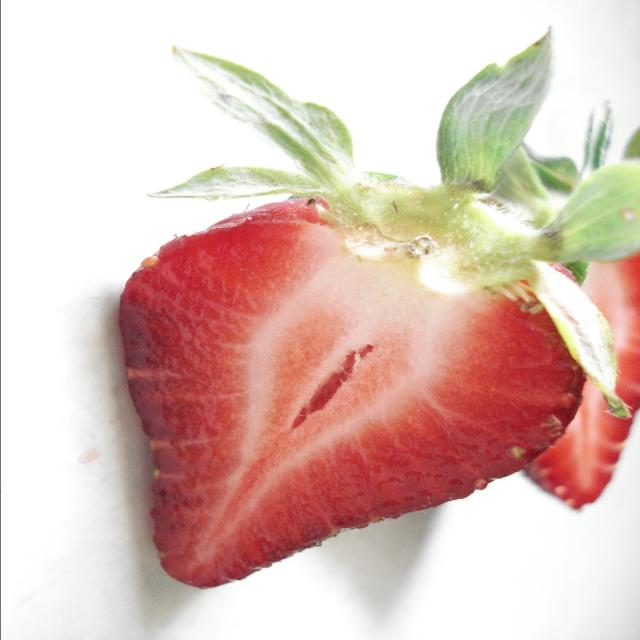strawberry: (68, 31, 574, 604)
